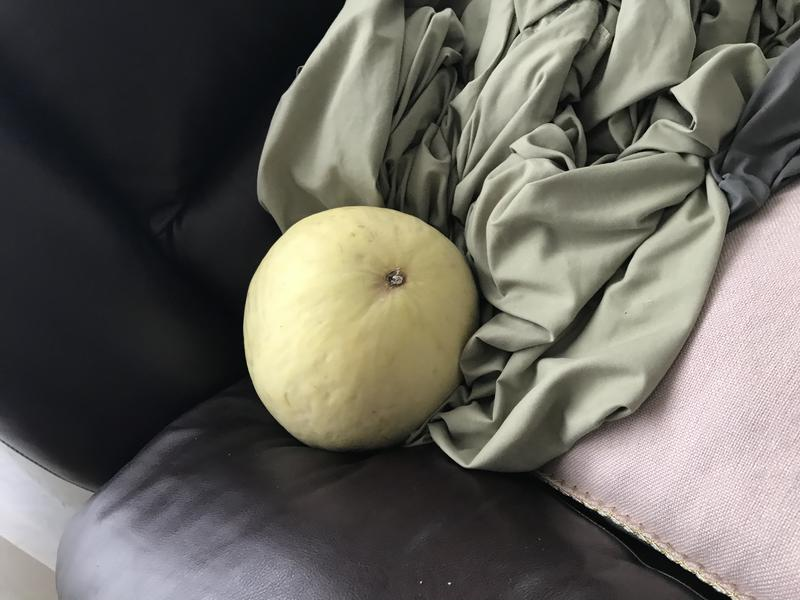honeydew: (228, 200, 497, 460)
